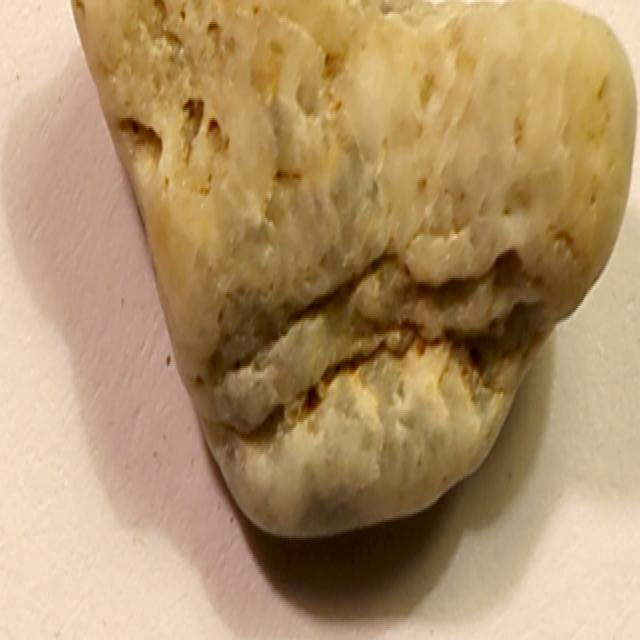stone: (62, 2, 640, 534)
